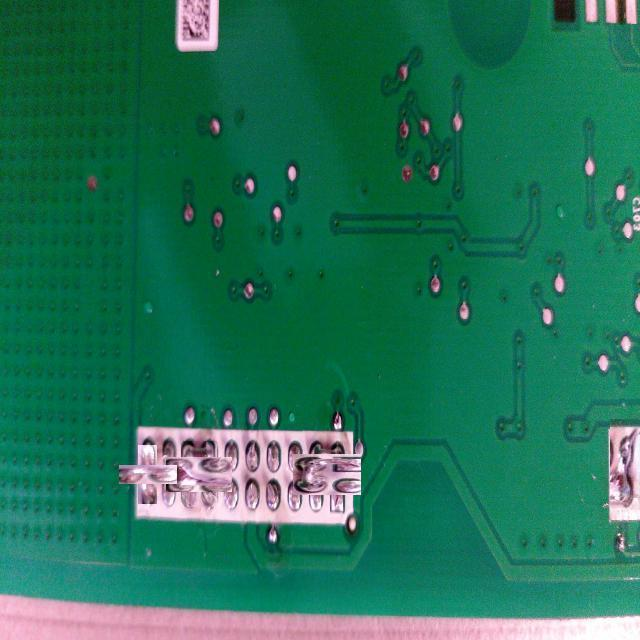Short_circuit: (300, 447, 355, 502), (610, 419, 640, 512), (173, 449, 224, 500), (128, 455, 167, 494)
